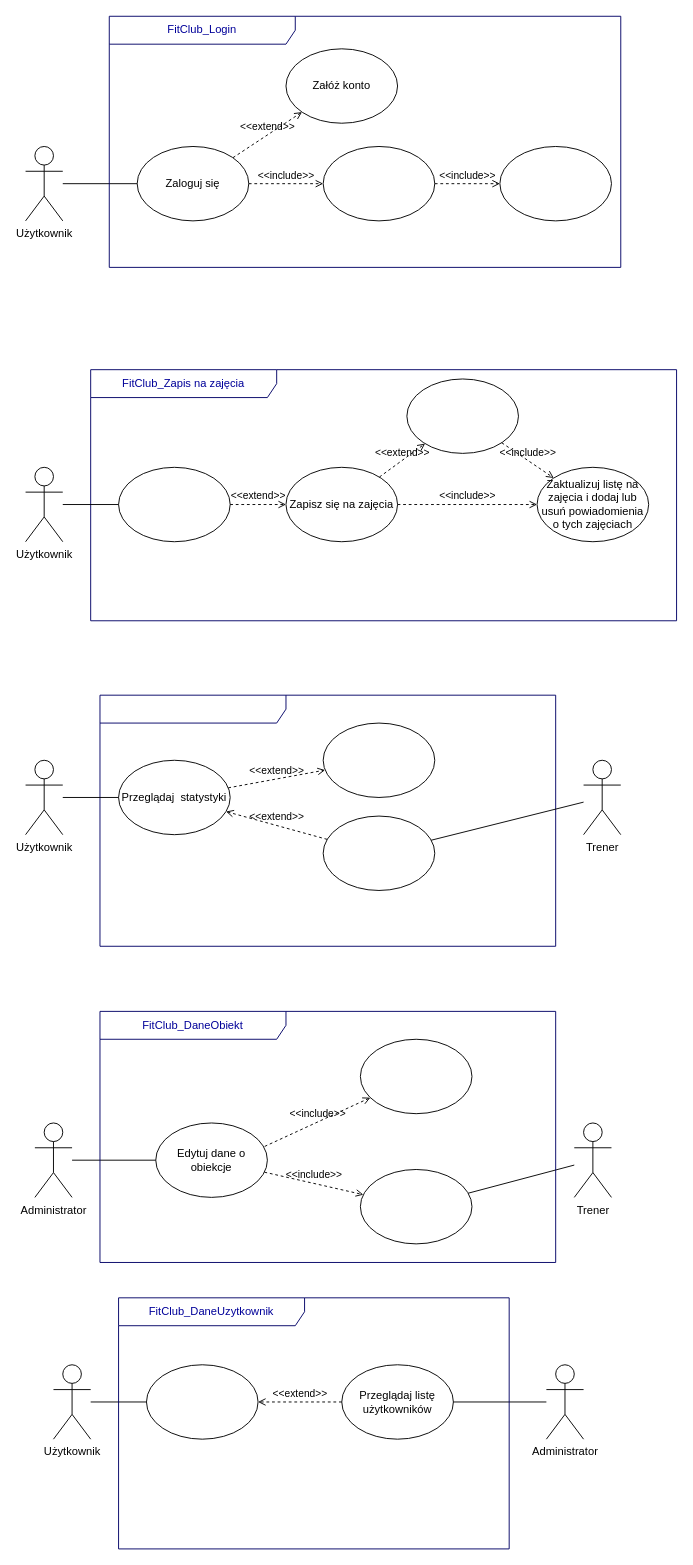
Some shapes in this 693 by 1565 pixel diagram are drawn without their labels. Here are the shapes that lost their labels. From the top down, the box of each, then its label:
(322, 146, 435, 221): Podaj login i hasło
(499, 146, 611, 221): Weryfikacja użytkownika
(406, 378, 518, 453): Zrezygnuj z zajęć
(118, 466, 230, 542): Przeglądaj dostępne zajęcia
(322, 722, 435, 797): Wzięcie udziału w badaniu konsumenta
(99, 694, 556, 946): FitClub_Statystyki
(322, 815, 435, 890): Dodaj komentarz, uwagi
(359, 1038, 472, 1114): Zmiana podstawowych informacji
(359, 1169, 472, 1244): Edycja oferowanych zajęć sportowych
(146, 1364, 258, 1439): Edytuj dane profilu użytkownika
